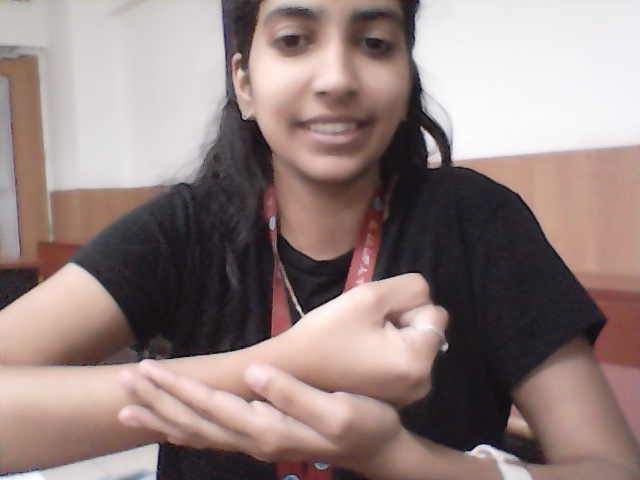Baby: (98, 233, 471, 475)
